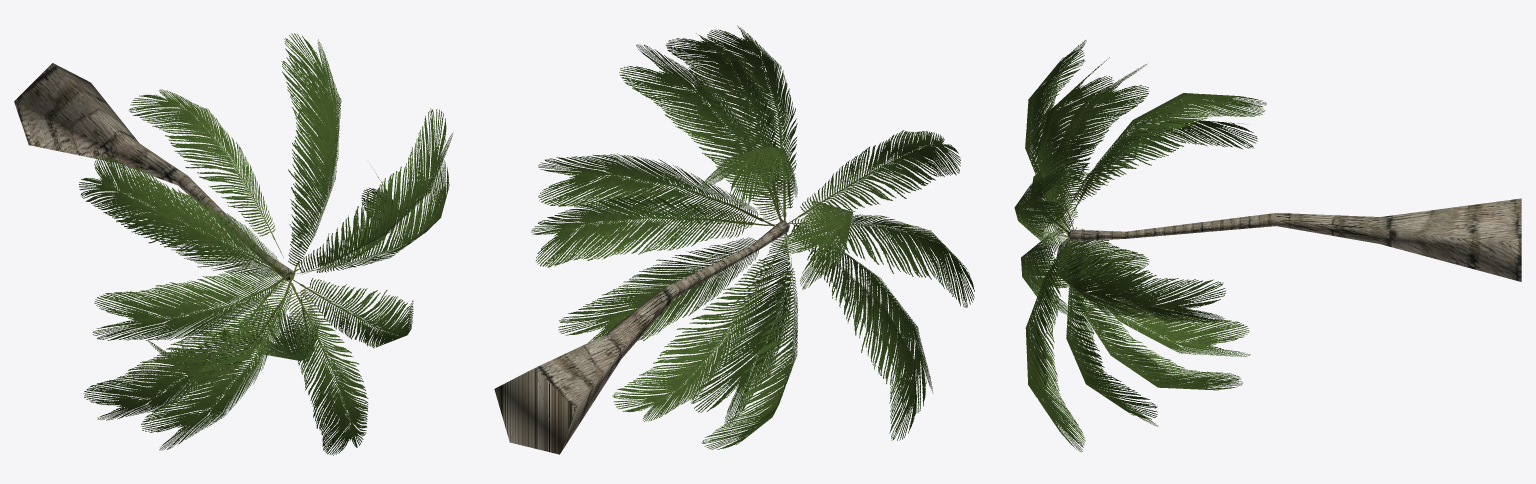
File: palm8.obj
3 views of the same model, side by side, from view 1: azimuth 30°, elevation 25°; view 2: azimuth 150°, elevation 25°; view 3: azimuth 270°, elevation 25° (orthographic). The views are drawn at different scales.
Visible parts, largest first — view 1: l1_3_50, palm_tree4; view 2: l1_3_50, palm_tree4; view 3: l1_3_50, palm_tree4.
Part boxes in pixels (<box>): l1_3_50: <box>79,33,452,455</box>; palm_tree4: <box>14,63,295,280</box>; l1_3_50: <box>531,25,974,449</box>; palm_tree4: <box>494,220,789,454</box>; l1_3_50: <box>1014,40,1266,452</box>; palm_tree4: <box>1067,198,1521,281</box>.
Bounding box in the file's own units: 22.59 × 22.91 × 25.48.
Materials: 2 (2 with a texture image).
